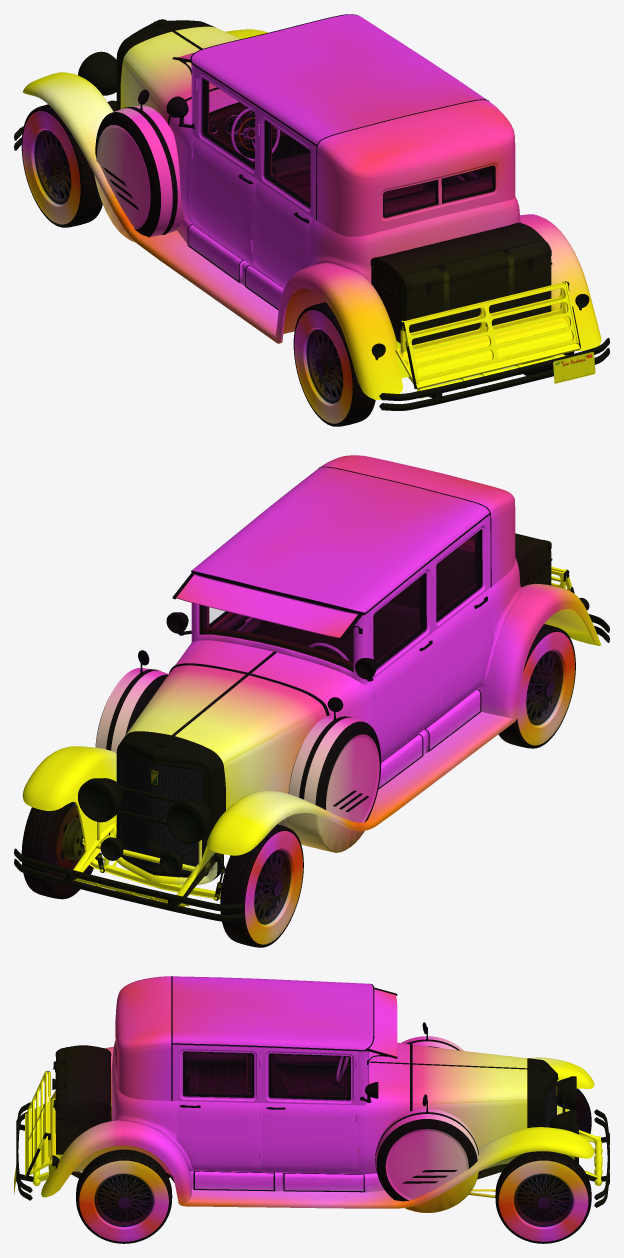
Rendered from btype3.glb.
The picture shows the model from 3 angles, top to bottom: view 1: azimuth 30°, elevation 25°; view 2: azimuth 150°, elevation 25°; view 3: azimuth 270°, elevation 25°; orthographic projection. The views are drawn at different scales.
Visible parts, largest first — view 1: bodyshell, misc_h, chassis, door_dside_f, wheel_lf, door_dside_r, wheel_lr, bonnet, misc_f, window_lf, windscreen_r, window_lr (+1 smaller); view 2: bodyshell, chassis, misc_h, bonnet, door_dside_f, wheel_lf, door_dside_r, misc_g, wheel_lr, misc_a, wheel_rf, window_lf (+4 smaller); view 3: bodyshell, door_pside_f, misc_h, door_pside_r, wheel_rr, wheel_rf, bonnet, window_rf, chassis, window_rr, door_dside_f, door_dside_r (+4 smaller).
Boxes of the visible parts, box(x1,y1,x2,y2) form: bodyshell: box(22, 14, 601, 400); misc_h: box(95, 89, 184, 237); chassis: box(94, 102, 567, 398); door_dside_f: box(189, 68, 258, 265); wheel_lf: box(21, 104, 102, 227); door_dside_r: box(250, 109, 313, 287); wheel_lr: box(293, 302, 375, 426); bonnet: box(123, 26, 240, 108); misc_f: box(379, 338, 609, 410); window_lf: box(204, 79, 254, 167); windscreen_r: box(383, 165, 494, 216); window_lr: box(267, 121, 310, 206); bodyshell: box(22, 455, 600, 906); chassis: box(72, 534, 598, 897); misc_h: box(95, 650, 381, 822); bonnet: box(125, 666, 323, 764); door_dside_f: box(370, 561, 439, 759); wheel_lf: box(220, 824, 303, 947); door_dside_r: box(432, 518, 493, 717); misc_g: box(121, 752, 203, 871); wheel_lr: box(498, 624, 575, 748); misc_a: box(14, 848, 244, 921); wheel_rf: box(21, 802, 97, 899); window_lf: box(374, 574, 424, 665); bodyshell: box(25, 976, 602, 1208); door_pside_f: box(261, 1048, 358, 1171); misc_h: box(375, 1022, 478, 1201); door_pside_r: box(177, 1045, 261, 1169); wheel_rr: box(76, 1149, 172, 1243); wheel_rf: box(495, 1151, 591, 1243); bonnet: box(413, 1044, 527, 1105); window_rf: box(269, 1053, 350, 1099); chassis: box(33, 1044, 597, 1212); window_rr: box(183, 1051, 253, 1096); door_dside_f: box(273, 1054, 349, 1097); door_dside_r: box(184, 1052, 246, 1094).
Size of the model in its own units: 1.77 by 1.84 by 4.99.
Materials: 20 (20 with a texture image).
